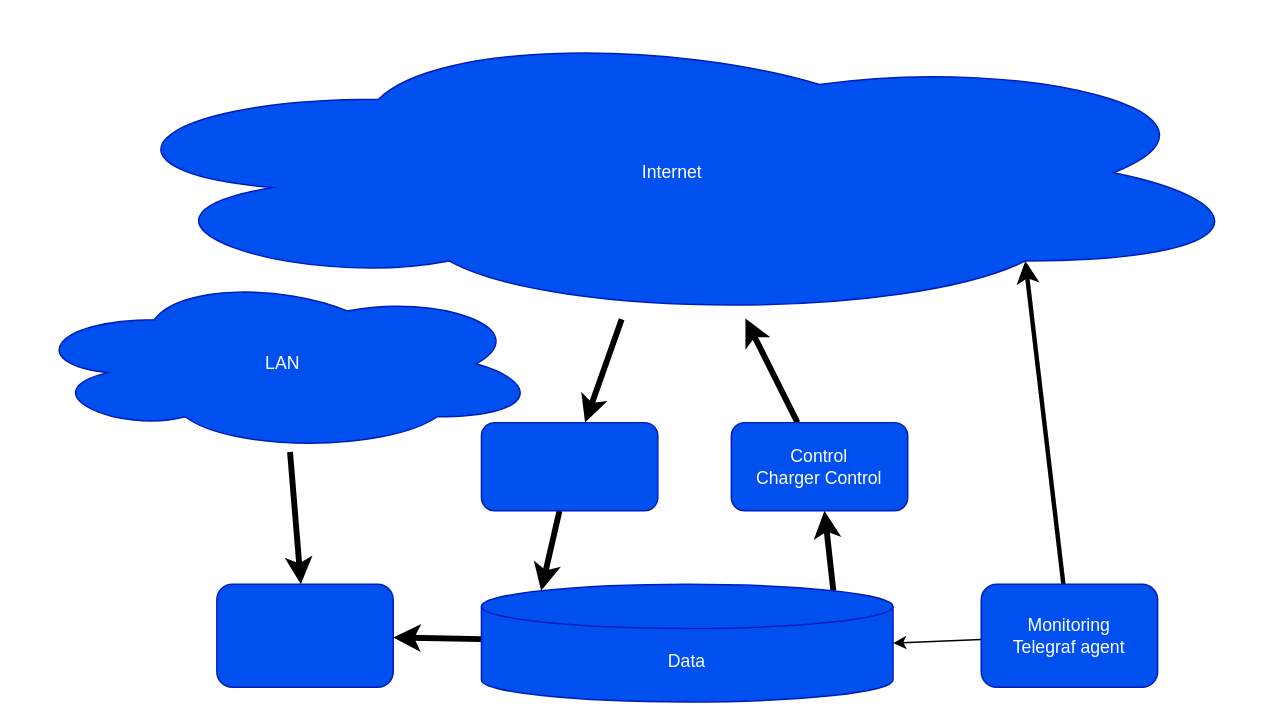
This 1286x728 diagram has some shape labels left out. The centre of each missing label's shape, as x and y in pixels:
Management Streamlit App: the point at 304,635
Value Get price: the point at 569,466
